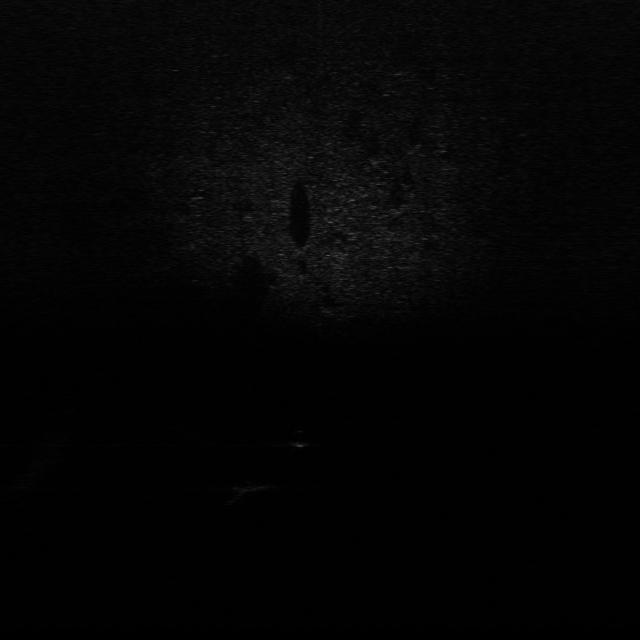ball: (283, 425, 318, 451)
square cage: (228, 479, 287, 498)
